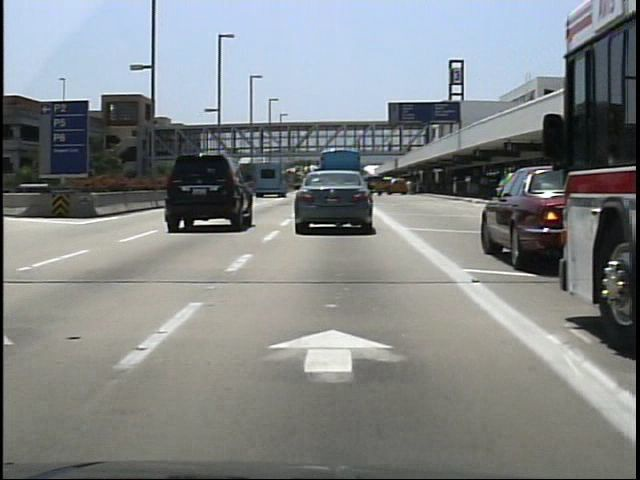person: (401, 175, 415, 199), (383, 136, 396, 158), (351, 136, 364, 156)
